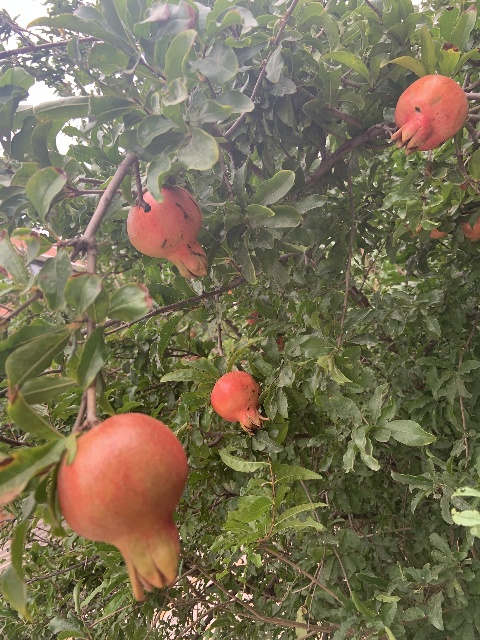ripe: (55, 412, 189, 600), (126, 186, 207, 279), (390, 74, 468, 153), (210, 370, 267, 436)
